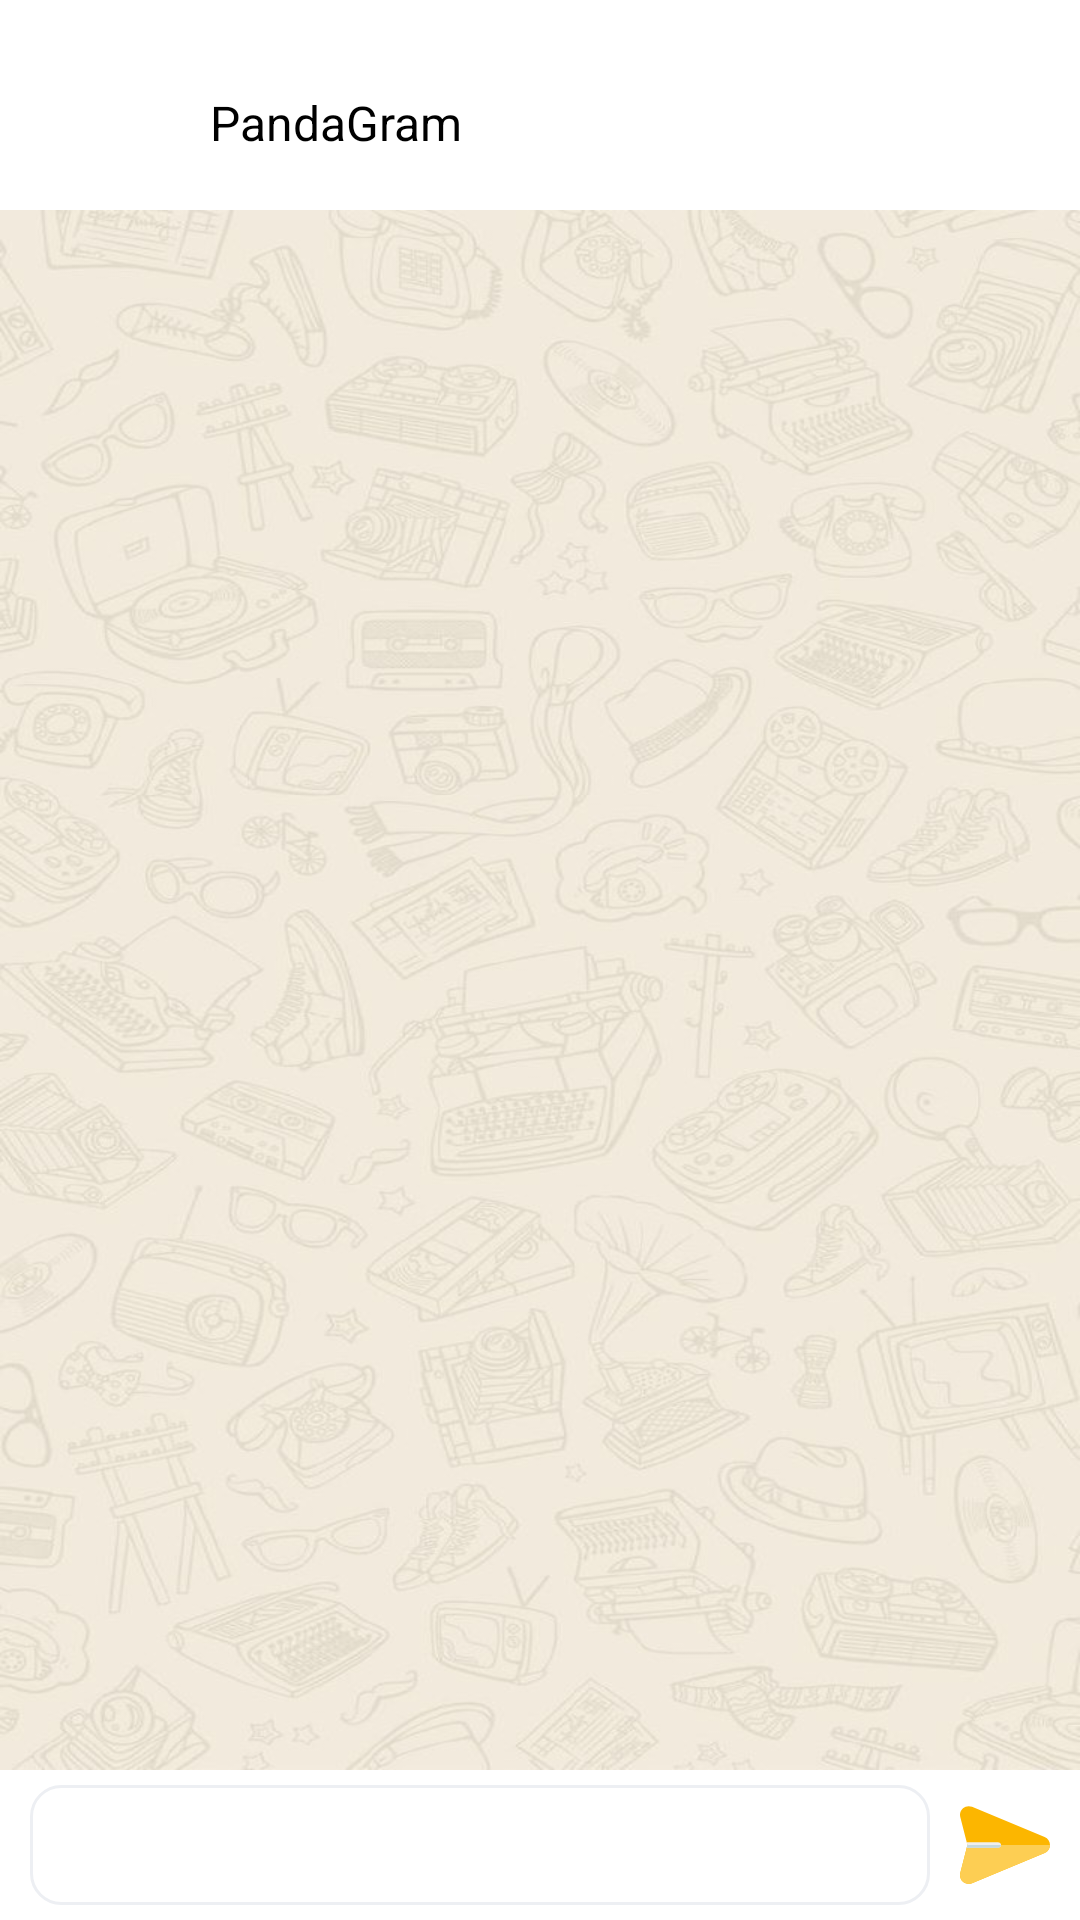

Named icons in this screenshot (1080 × 1920) and their centers, (x,y):
send: (1005,1845)
